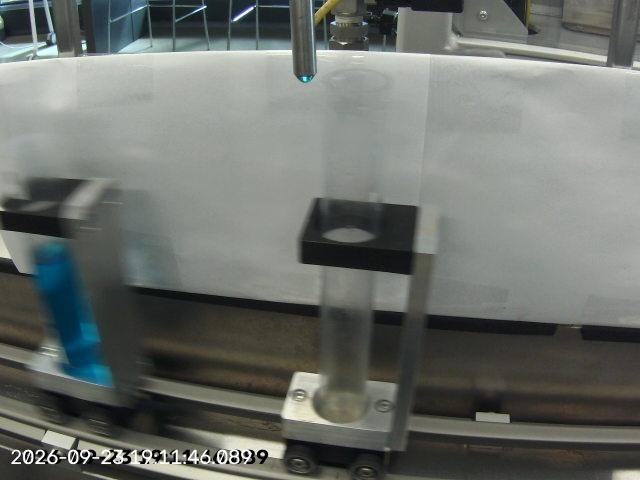vial: (0, 89, 109, 370), (321, 65, 392, 424)
